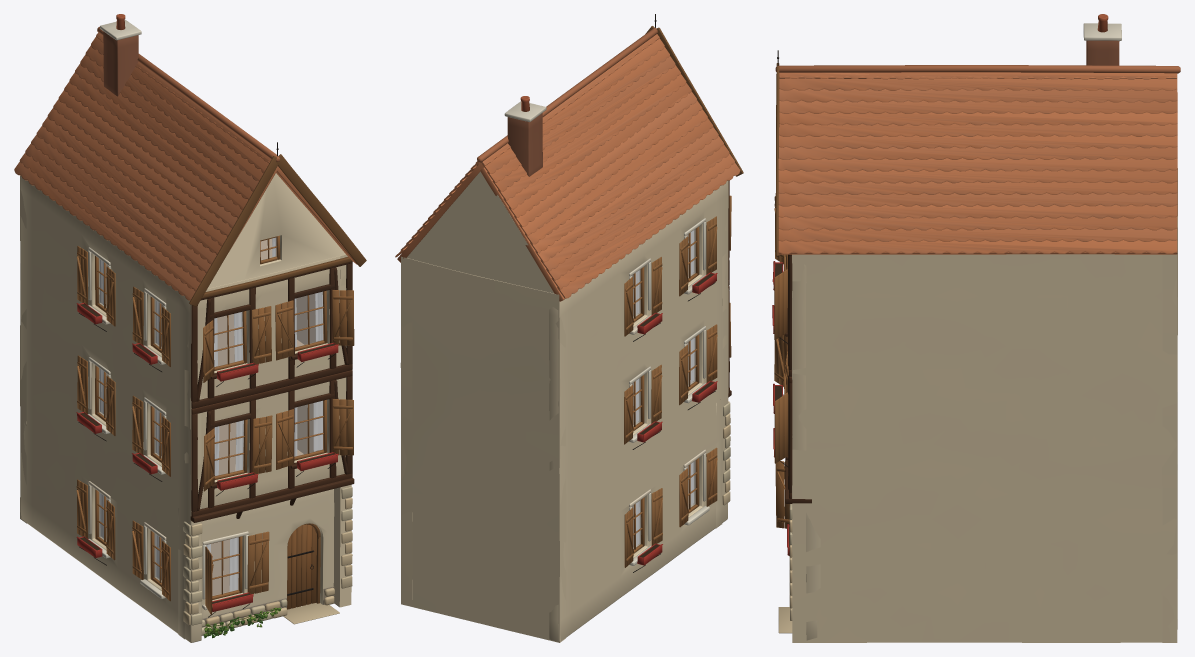
Rendered from StraightEnd_Street2.glb.
3 renders of one model, left to right at view 1: azimuth 30°, elevation 25°; view 2: azimuth 150°, elevation 25°; view 3: azimuth 270°, elevation 25°, orthographic. The views are drawn at different scales.
Parts seen in each view (by area): view 1: Sammel Putz, Sammel Stein, Sammel Holz, Glas, Sammel Putz innen, Vorhang Leinen, Sammel Lack, Sammel Ziegel, Sammel Pflanze; view 2: Sammel Putz, Sammel Stein, Sammel Holz, Sammel Ziegel, Glas, Sammel Lack, Vorhang Leinen; view 3: Sammel Putz, Sammel Stein, Sammel Holz, Sammel Ziegel.
Part boxes in pixels (x1,y1,x2,y2): Sammel Putz: (20, 14, 351, 642); Sammel Stein: (14, 26, 357, 635); Sammel Holz: (76, 154, 366, 614); Glas: (98, 238, 323, 595); Sammel Putz innen: (105, 238, 322, 595); Vorhang Leinen: (100, 237, 323, 591); Sammel Lack: (76, 302, 338, 611); Sammel Ziegel: (103, 31, 138, 96); Sammel Pflanze: (203, 607, 281, 638); Sammel Putz: (400, 96, 728, 642); Sammel Stein: (395, 28, 740, 505); Sammel Holz: (624, 26, 743, 567); Sammel Ziegel: (507, 113, 542, 176); Glas: (632, 229, 695, 548); Sammel Lack: (637, 272, 717, 565); Vorhang Leinen: (635, 230, 694, 545); Sammel Putz: (775, 14, 1177, 642); Sammel Stein: (775, 65, 1180, 633); Sammel Holz: (774, 63, 811, 528); Sammel Ziegel: (1086, 40, 1119, 65).
Size of the model in its own units: 5.15 by 13.76 by 8.8.
